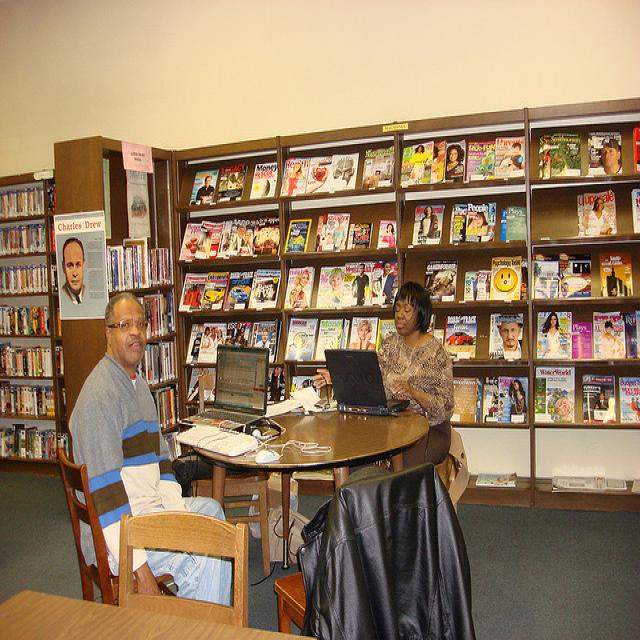chair: (113, 509, 253, 627), (58, 433, 113, 607), (227, 480, 272, 582), (271, 573, 306, 634), (197, 371, 217, 412)
dining table: (0, 587, 318, 640)
